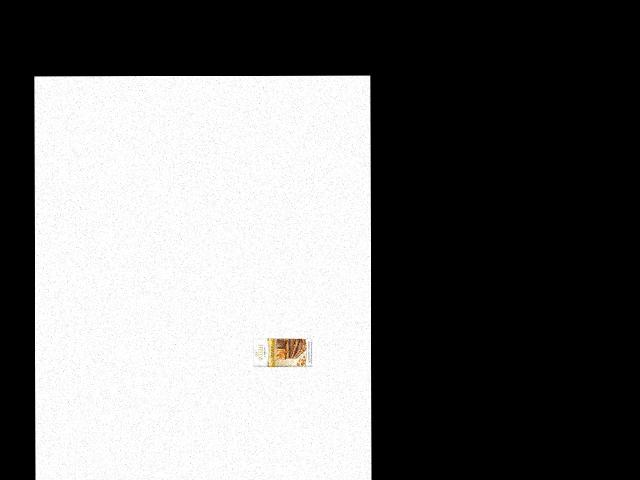chocolate: (249, 332, 314, 378)
